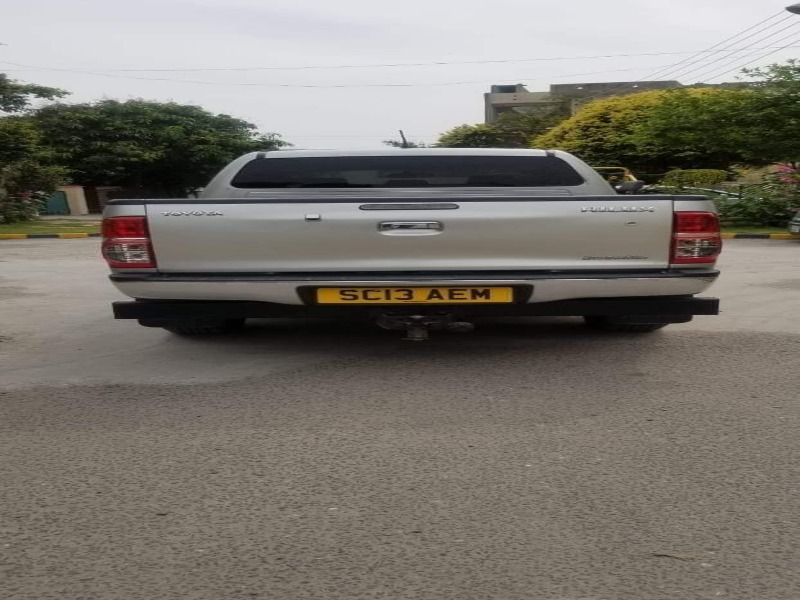License Plate: (314, 281, 521, 313)
